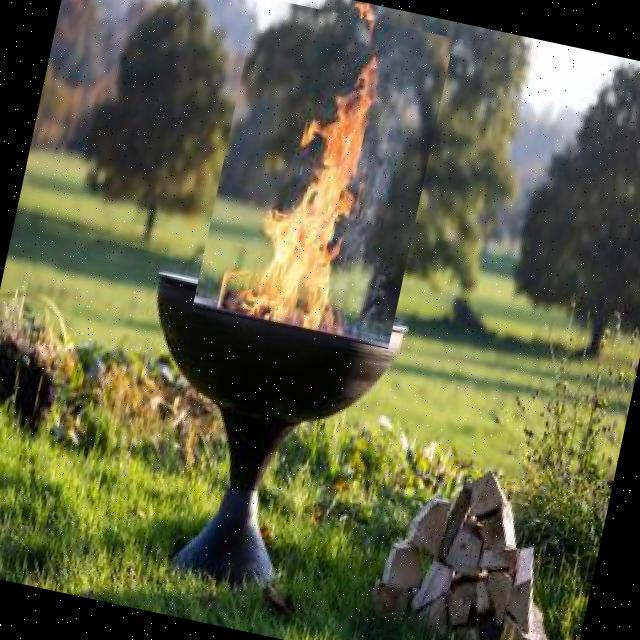fire: (192, 0, 454, 349)
